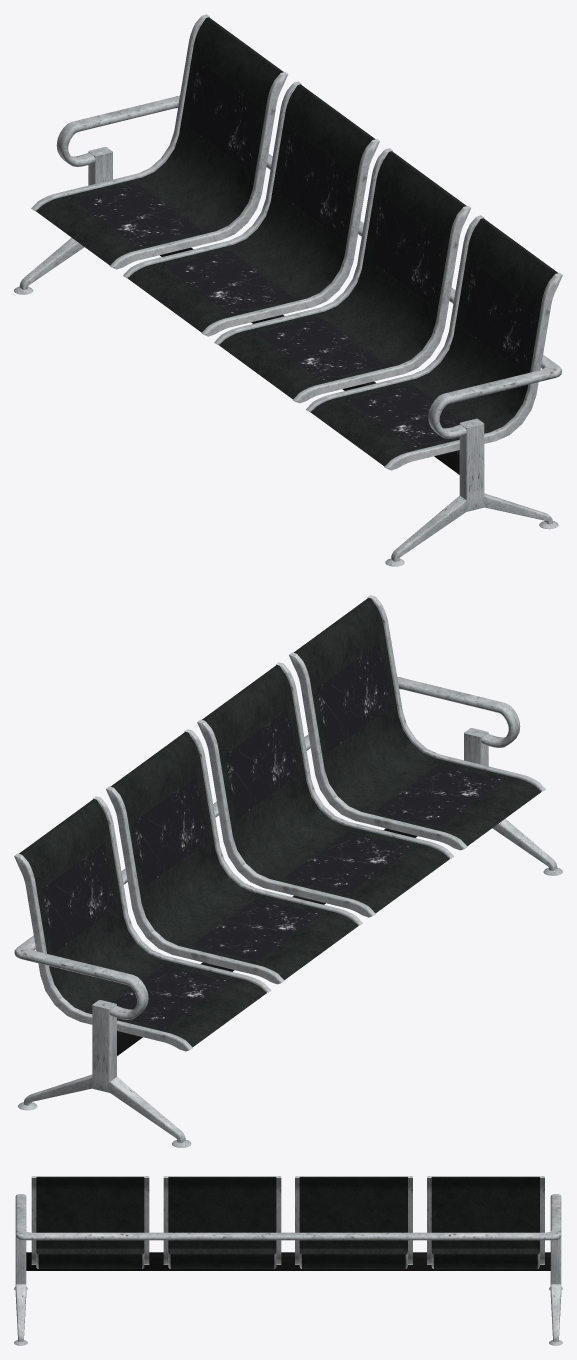
File: sillas_conjuntos.obj
The picture shows the model from 3 angles, top to bottom: view 1: azimuth 30°, elevation 25°; view 2: azimuth 150°, elevation 25°; view 3: azimuth 270°, elevation 25°; orthographic projection. The views are drawn at different scales.
Visible parts, largest first — view 1: Plane.002, Plane.003, Plane.001, Plane.004, Cube.002, Plane.005, Plane, Cube.001; view 2: Plane.003, Plane.002, Plane.004, Plane.001, Cube.001, Plane, Plane.005, Cube.002; view 3: Plane.003, Plane.004, Plane.001, Plane.002, Plane, Plane.005, Cube, Cube.001, Cube.002.
Boxes of the visible parts, x1,y1,x2,y2 form: Plane.002: (123,81,379,336); Plane.003: (214,148,470,403); Plane.001: (31,14,288,269); Plane.004: (306,215,562,470); Cube.002: (385,418,558,566); Plane.005: (428,287,562,438); Plane: (56,95,363,236); Cube.001: (14,147,112,294); Plane.003: (197,662,454,917); Plane.002: (106,729,362,984); Plane.004: (289,595,545,850); Plane.001: (14,796,271,1051); Cube.001: (18,1000,191,1147); Plane: (14,868,148,1019); Plane.005: (213,676,520,817); Cube.002: (464,728,562,875); Plane.003: (163,1176,281,1268); Plane.004: (31,1176,149,1268); Plane.001: (427,1176,544,1268); Plane.002: (295,1176,412,1268); Plane: (287,1194,561,1240); Plane.005: (15,1194,289,1240); Cube: (26,1252,550,1270); Cube.001: (549,1236,562,1345); Cube.002: (14,1236,27,1345).
Bounding box in the file's own units: 7.22 × 8.99 × 25.95.
4 materials, 3 textured.
